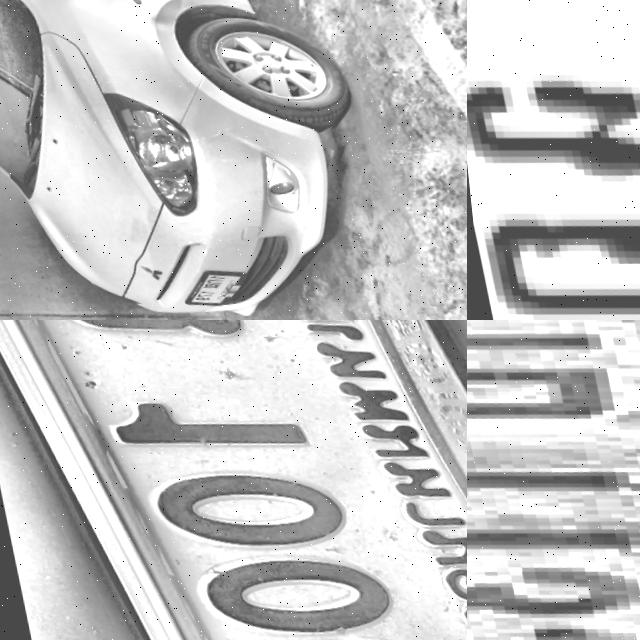license-plate: (0, 320, 467, 640), (467, 0, 640, 320), (467, 320, 640, 640), (166, 254, 248, 308)
